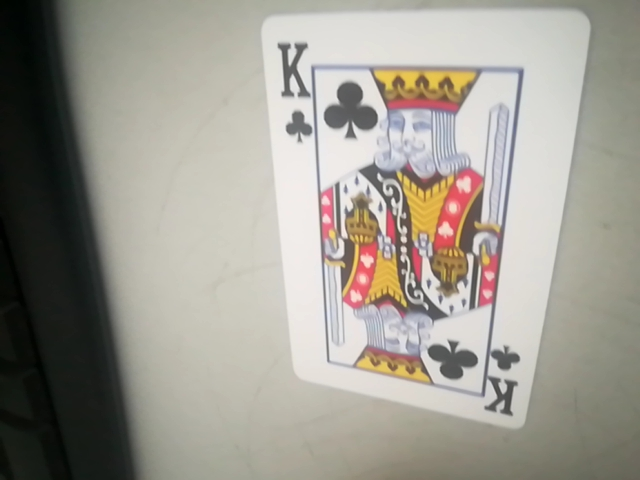mh k: (261, 7, 600, 430)
